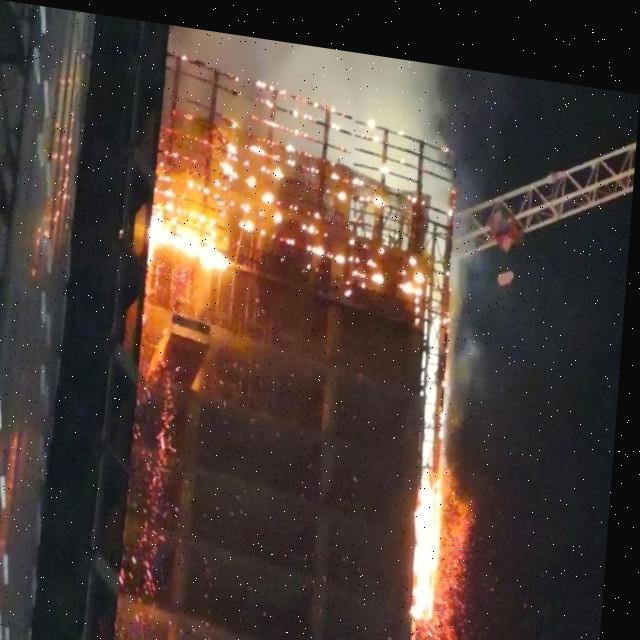Fire: (128, 100, 489, 328), (383, 403, 497, 639)
